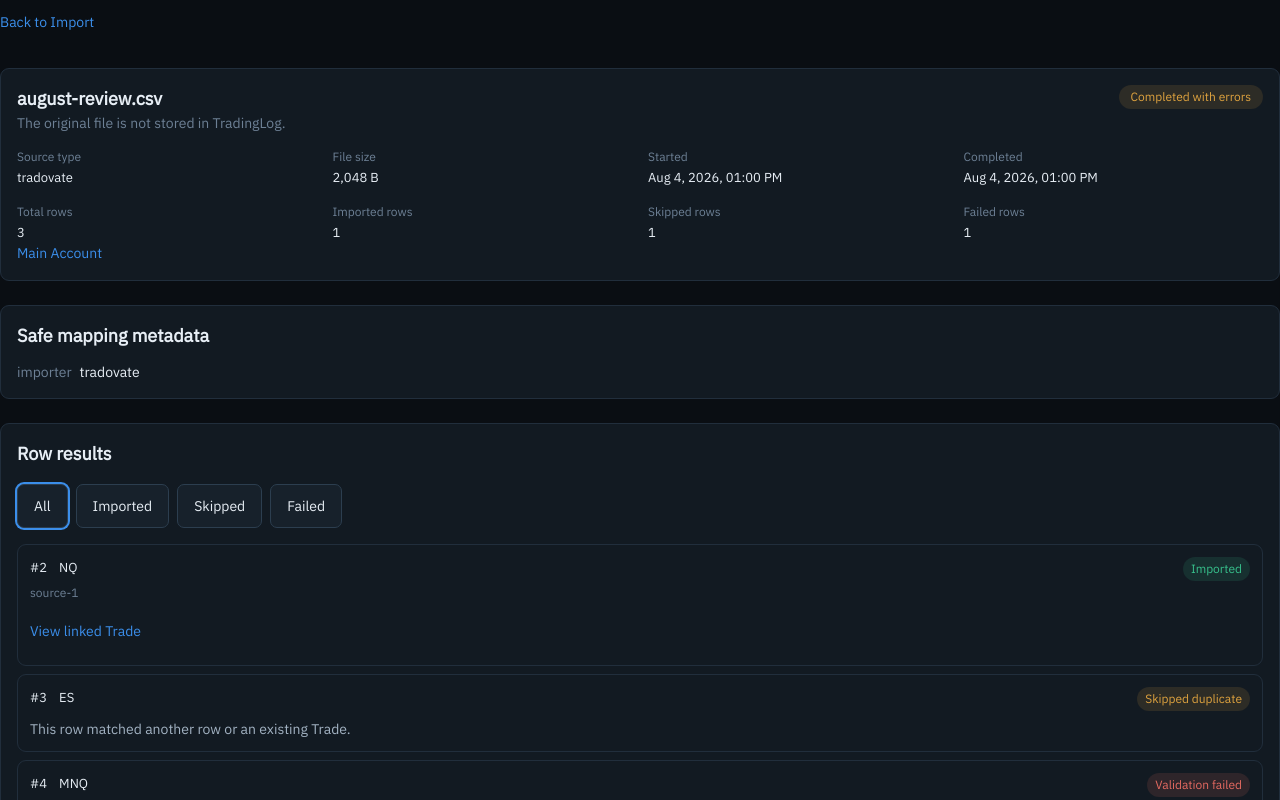
Test: Import Run detail › filters row results without losing the durable run summary
Expected: the heading "august-review.csv" is shown, [17, 87, 162, 110]
Click the button "Skipped". click: (220,506)
box: [177, 484, 262, 528]
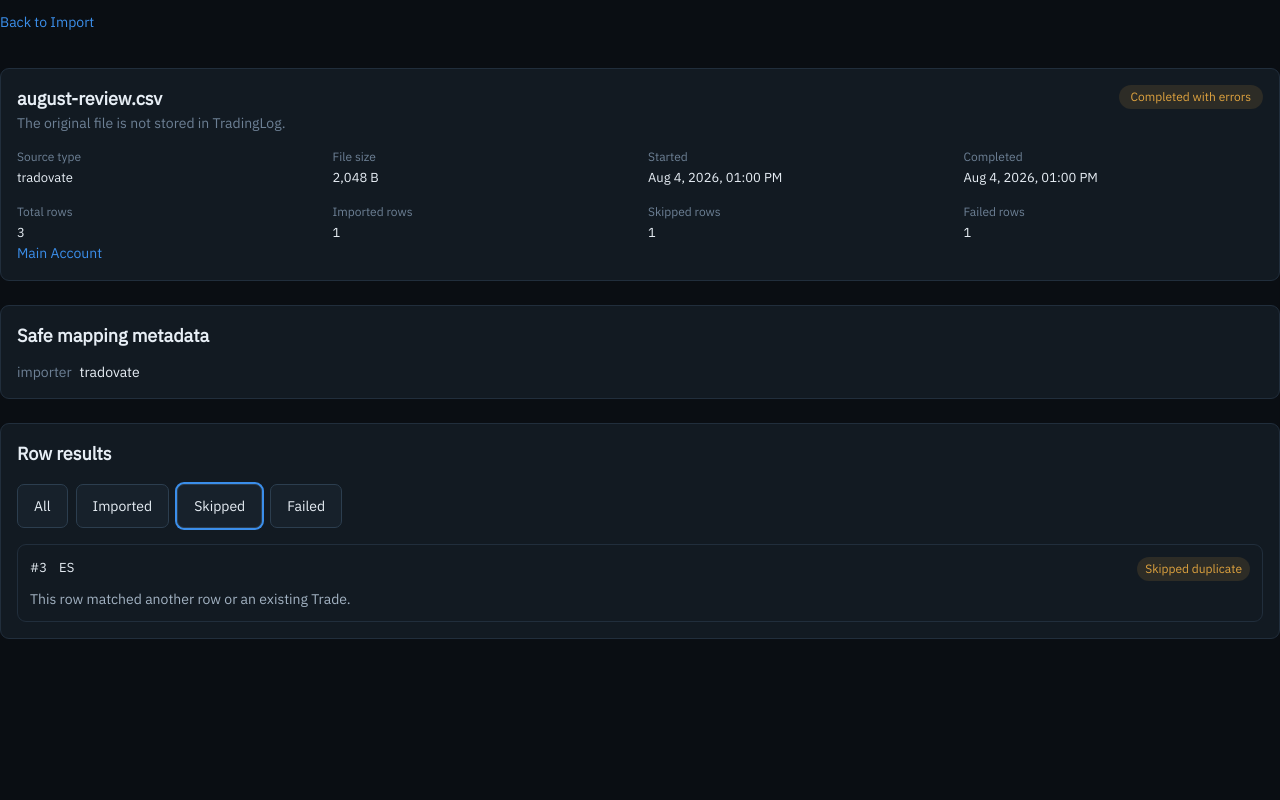
Expected: the text "ES" is shown, [59, 559, 74, 576]
Expected: the text "NQ" is gone
